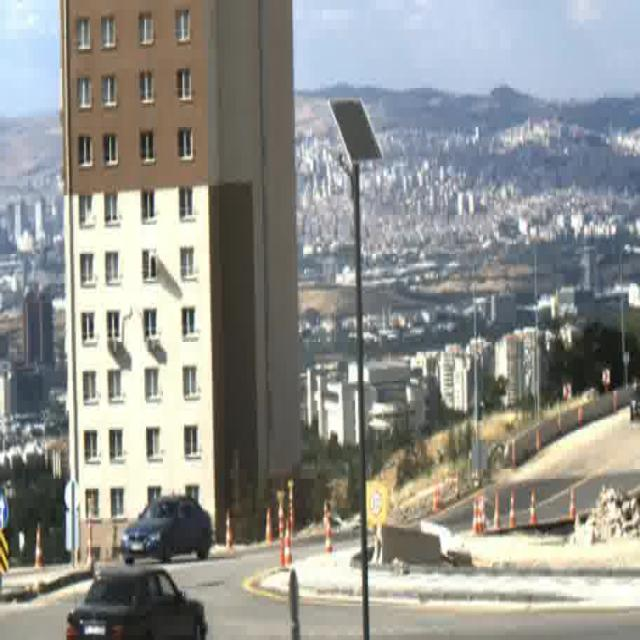Car: (66, 565, 208, 640), (122, 494, 213, 565), (629, 384, 640, 422)
